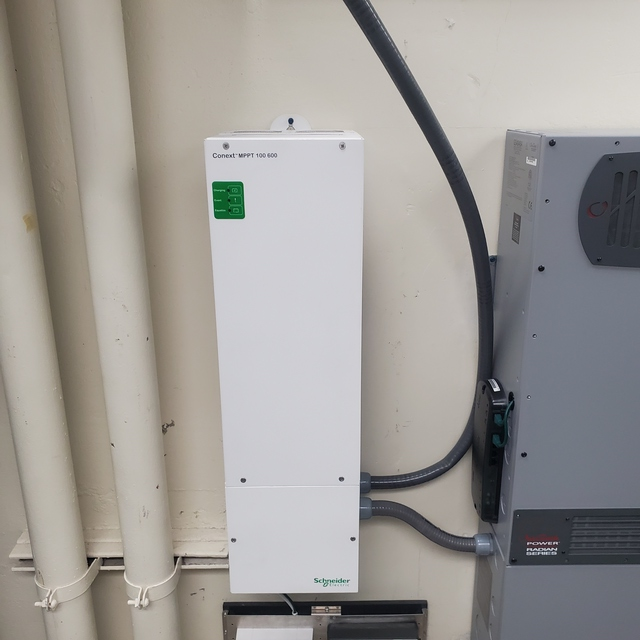charge_controller: (204, 131, 361, 594)
